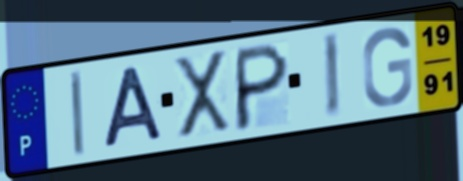A: (101, 63, 166, 151)
G: (360, 25, 415, 110)
I: (320, 29, 343, 122), (67, 67, 88, 160)
P: (231, 40, 292, 134)
X: (171, 47, 234, 143)
